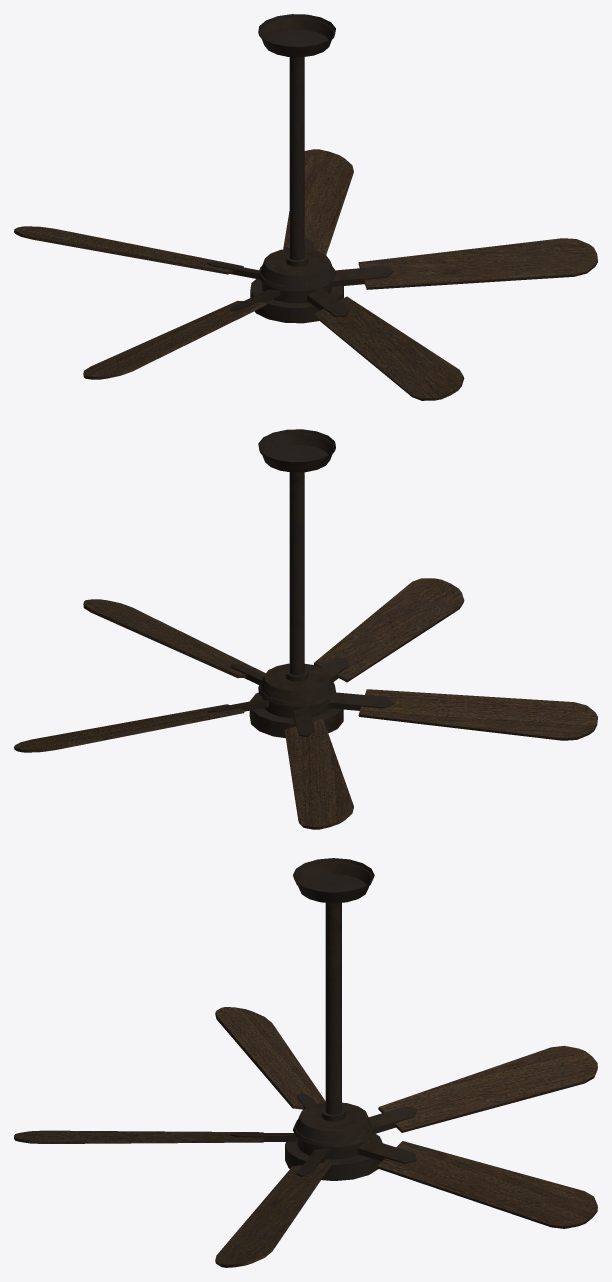
File: ceiling_fan_mp_2.glb
3 renders of one model, top to bottom at view 1: azimuth 30°, elevation 25°; view 2: azimuth 150°, elevation 25°; view 3: azimuth 270°, elevation 25°, orthographic. The views are drawn at different scales.
Visible parts, largest first — view 1: ceiling_fan_mp_2_blades, ceiling_fan_mp_2; view 2: ceiling_fan_mp_2_blades, ceiling_fan_mp_2; view 3: ceiling_fan_mp_2_blades, ceiling_fan_mp_2.
Boxes of the visible parts, bbox=[...] form: ceiling_fan_mp_2_blades: bbox=[14, 149, 597, 400]; ceiling_fan_mp_2: bbox=[250, 14, 343, 323]; ceiling_fan_mp_2_blades: bbox=[14, 578, 597, 829]; ceiling_fan_mp_2: bbox=[249, 429, 343, 737]; ceiling_fan_mp_2_blades: bbox=[14, 1007, 597, 1267]; ceiling_fan_mp_2: bbox=[285, 858, 382, 1180].
Size of the model in its own units: 1.11 by 0.5915 by 1.06.
2 materials, 2 textured.
